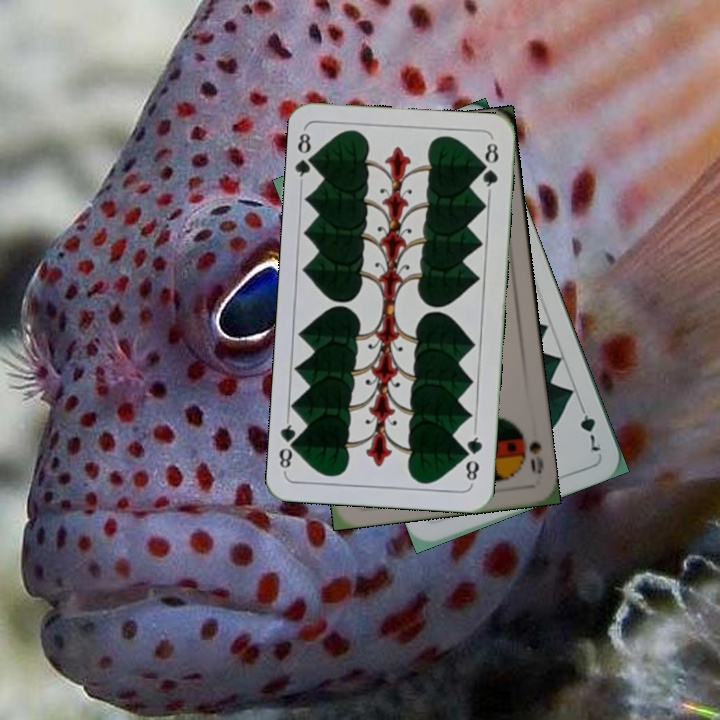G7: (575, 398, 604, 454)
G8: (292, 126, 320, 185), (460, 427, 485, 487)
SO: (516, 422, 546, 476)
